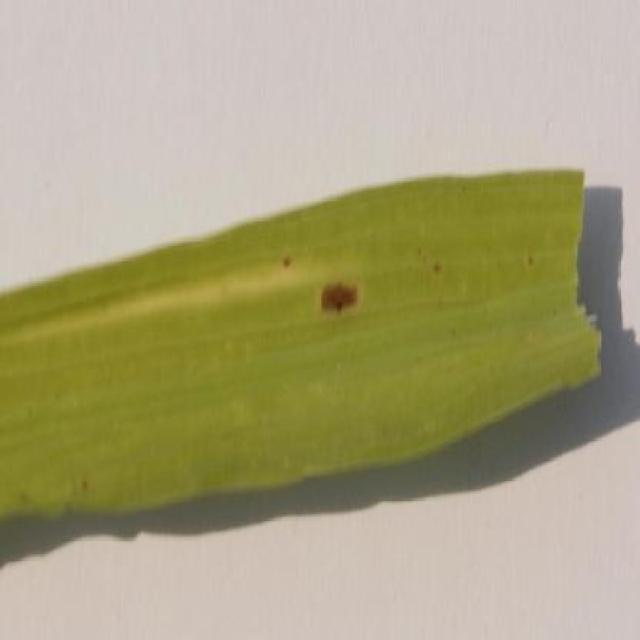Leaf_Blast: (305, 266, 370, 316)
